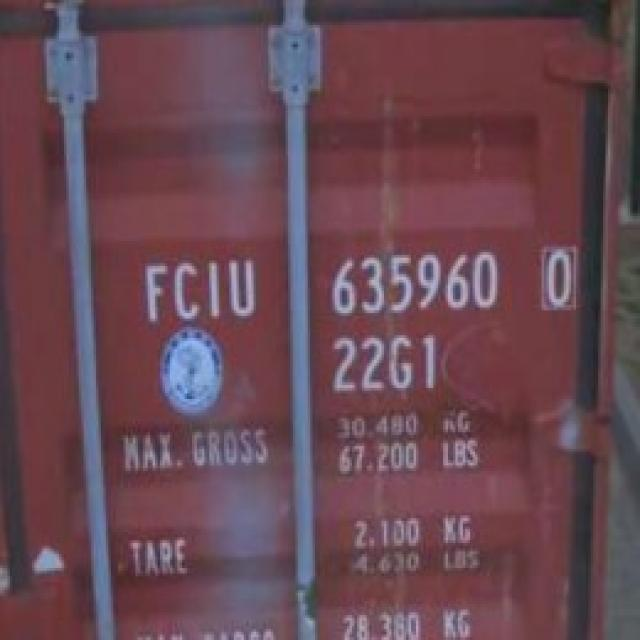dv: (539, 241, 580, 317)
owner: (134, 251, 261, 329)
serial: (318, 243, 505, 324)
size: (320, 332, 441, 396)
